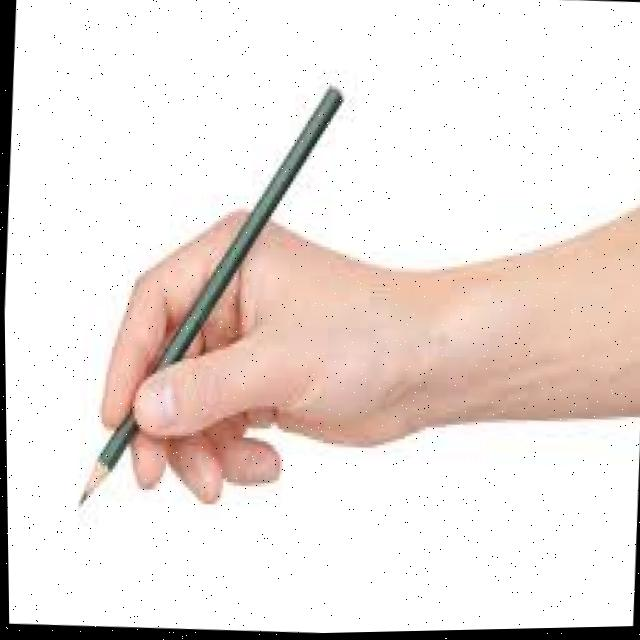pencil: (67, 80, 354, 520)
